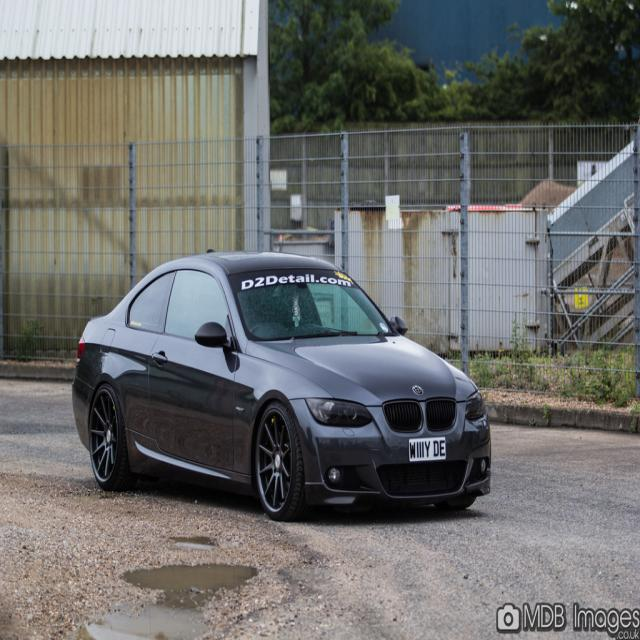car: (72, 251, 480, 518)
